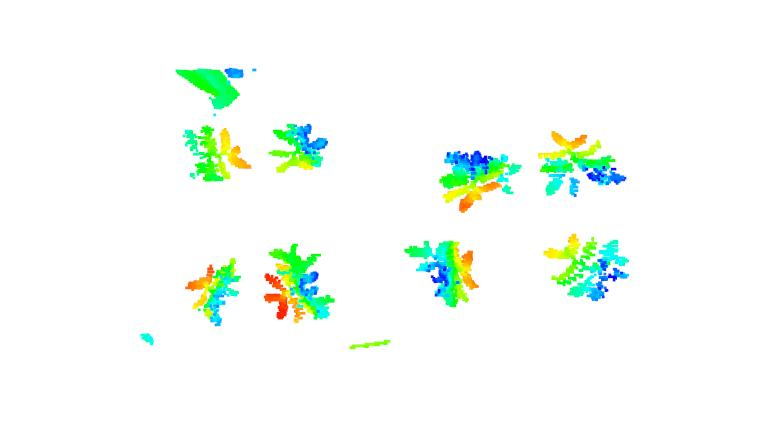chickpea: (535, 129, 629, 198), (546, 234, 632, 303), (260, 244, 334, 324), (437, 150, 526, 212), (405, 238, 480, 309), (185, 257, 246, 329), (182, 122, 252, 184), (269, 121, 330, 173)
